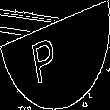P_N: (39, 26, 71, 84)
